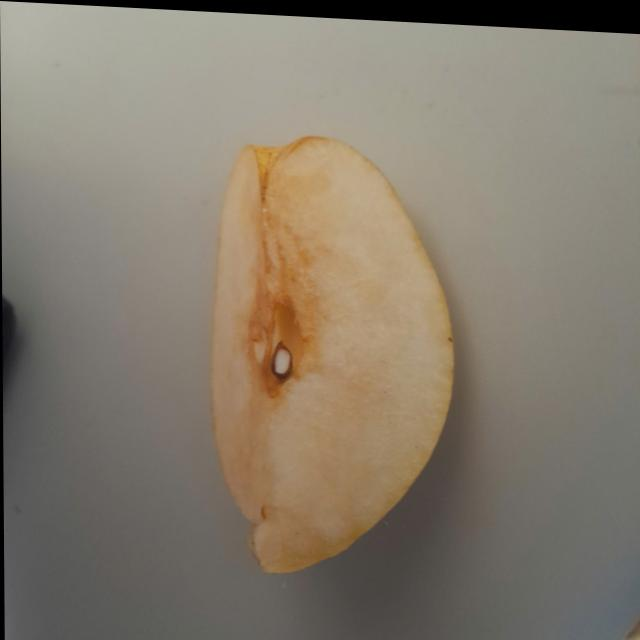Le: (185, 90, 479, 592)
